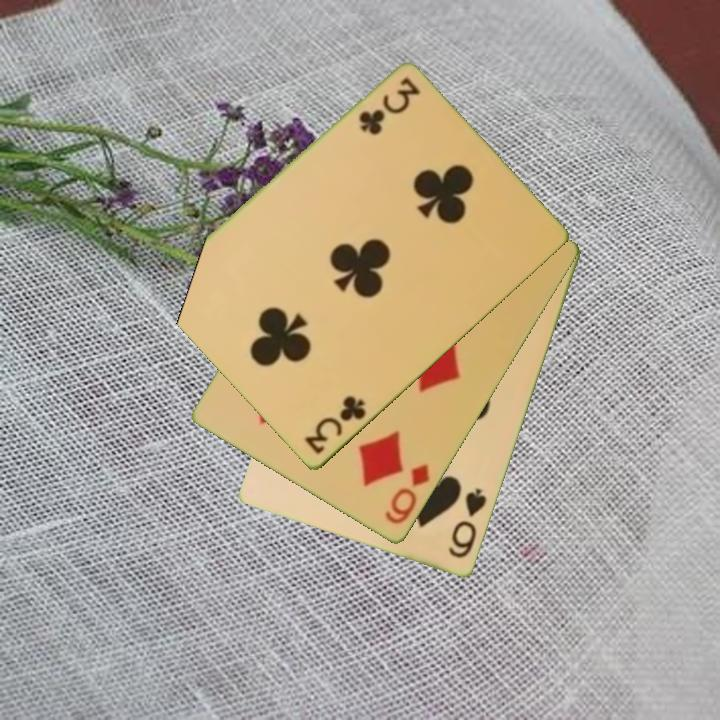3c: (301, 392, 369, 458), (355, 74, 421, 137)
6d: (381, 461, 433, 528)
6s: (445, 485, 490, 562)
